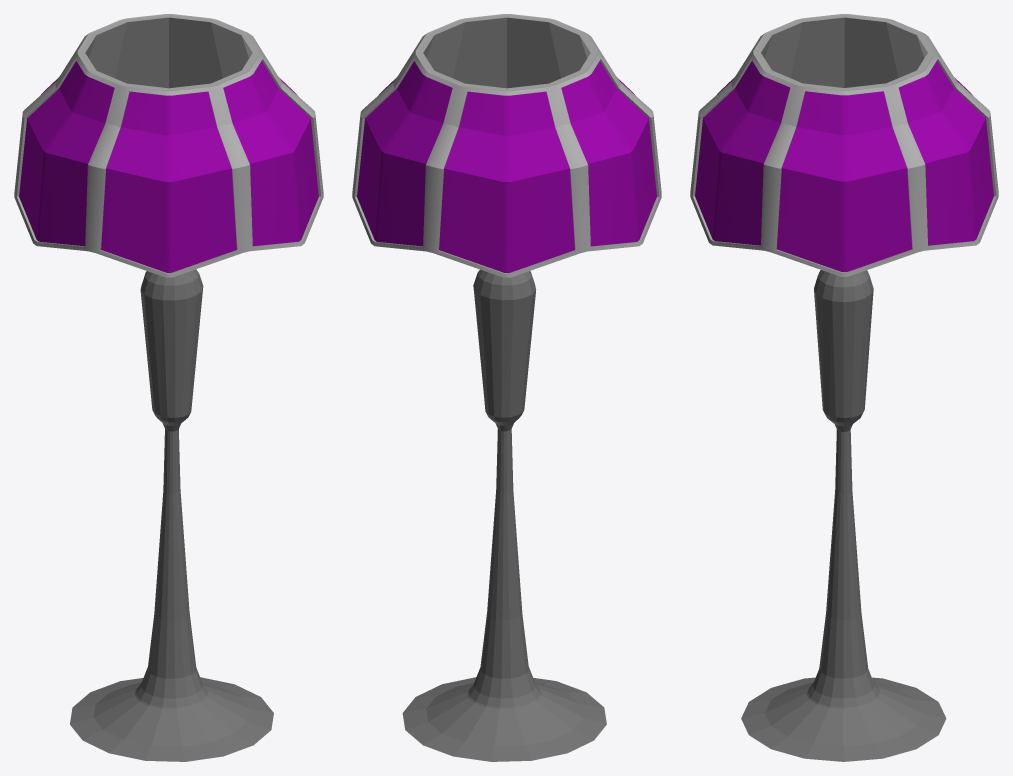
The model's file is Lamp.fbx.
The picture shows the model from 3 angles, left to right: view 1: azimuth 30°, elevation 25°; view 2: azimuth 150°, elevation 25°; view 3: azimuth 270°, elevation 25°; orthographic projection.
Visible parts, largest first — view 1: pCylinder2, pCylinder1; view 2: pCylinder2, pCylinder1; view 3: pCylinder2, pCylinder1.
Boxes of the visible parts, x1,y1,x2,y2 form: pCylinder2: [14, 14, 323, 277]; pCylinder1: [70, 269, 273, 761]; pCylinder2: [352, 14, 661, 277]; pCylinder1: [402, 269, 606, 761]; pCylinder2: [690, 14, 998, 276]; pCylinder1: [741, 270, 946, 761].
Size of the model in its own units: 0.618 by 1.47 by 0.6178.
